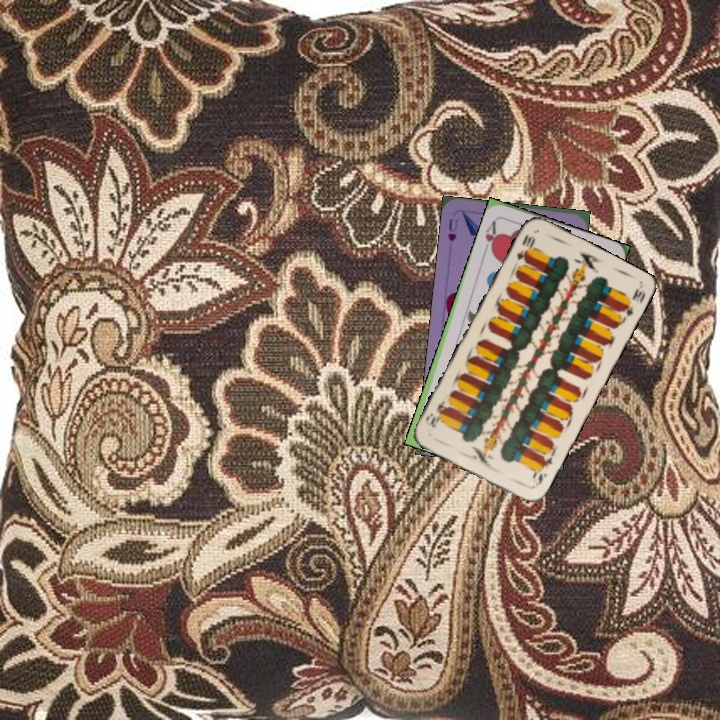E10: (528, 452, 555, 489), (512, 231, 538, 265)
HA: (480, 215, 501, 257)
HU: (444, 215, 460, 244)
